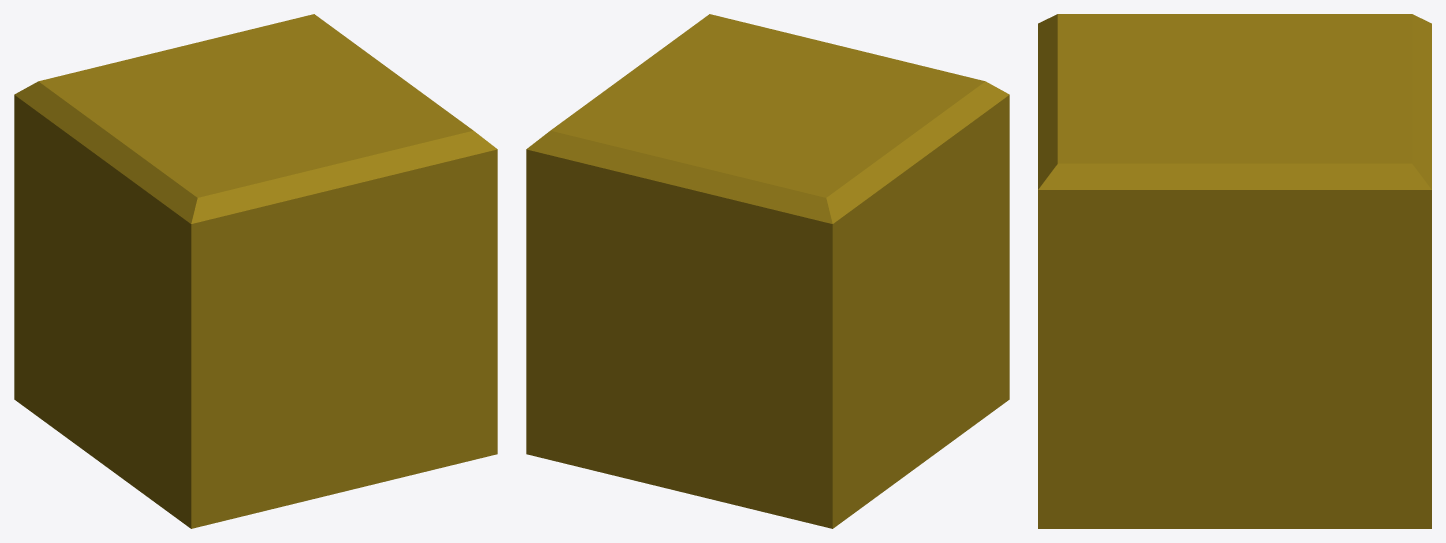
Rendered from wallSlow.fbx.
The picture shows the model from 3 angles, left to right: view 1: azimuth 30°, elevation 25°; view 2: azimuth 150°, elevation 25°; view 3: azimuth 270°, elevation 25°; orthographic projection. The views are drawn at different scales.
Visible parts, largest first — view 1: wallSlow; view 2: wallSlow; view 3: wallSlow.
Part boxes in pixels (bbox=[...]): wallSlow: bbox=[14, 14, 497, 528]; wallSlow: bbox=[526, 14, 1009, 528]; wallSlow: bbox=[1038, 14, 1431, 528].
Size of the model in its own units: 100 by 100 by 100.
